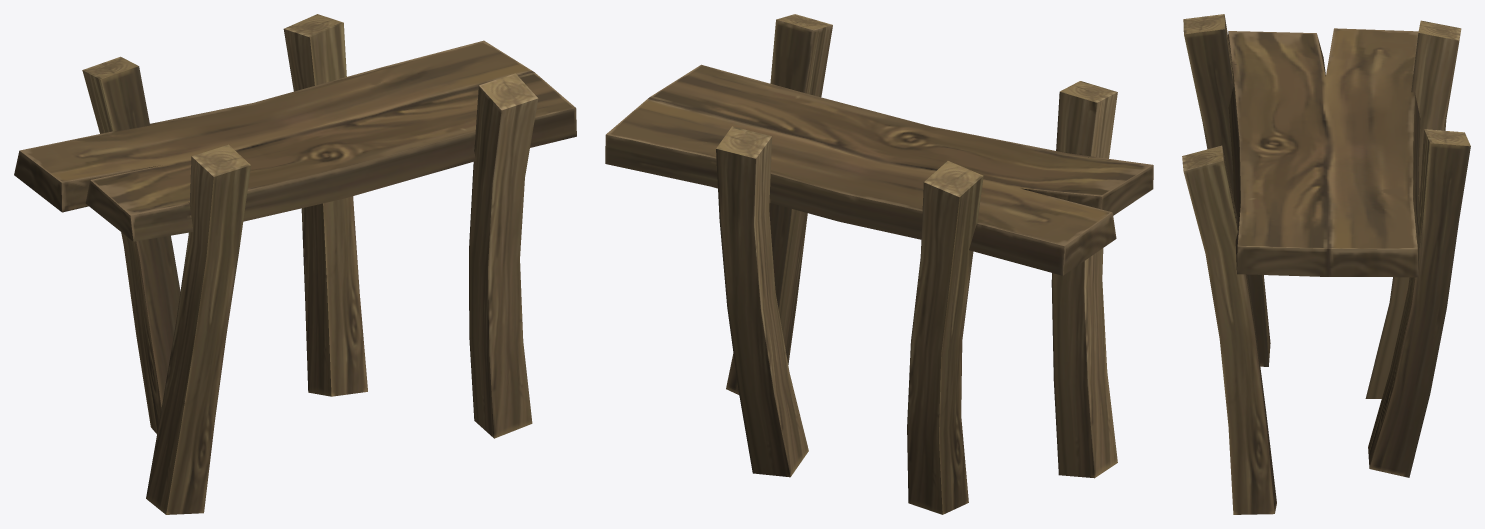
File: scaffolding_A.fbx
3 renders of one model, left to right at view 1: azimuth 30°, elevation 25°; view 2: azimuth 150°, elevation 25°; view 3: azimuth 270°, elevation 25°, orthographic. The views are drawn at different scales.
Parts seen in each view (by area): view 1: scaffolding_A; view 2: scaffolding_A; view 3: scaffolding_A.
Part boxes in pixels (bbox=[...]): scaffolding_A: bbox=[14, 14, 576, 514]; scaffolding_A: bbox=[605, 14, 1153, 514]; scaffolding_A: bbox=[1182, 14, 1470, 514].
Bounding box in the file's own units: 327 × 243 × 181.
